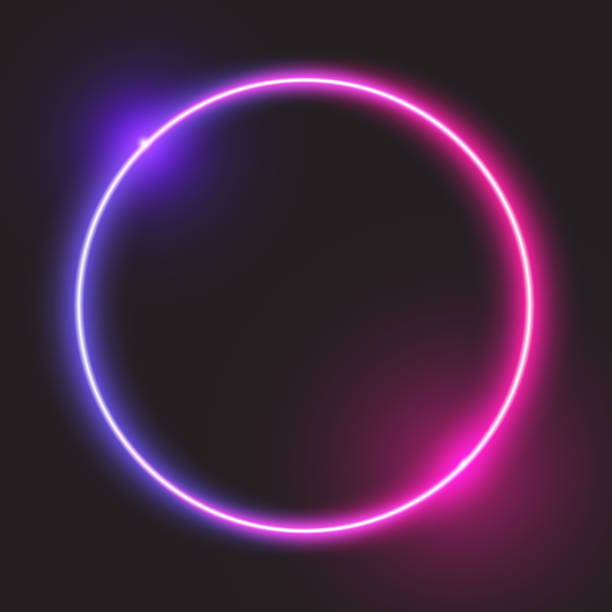daire: (66, 75, 535, 538)
